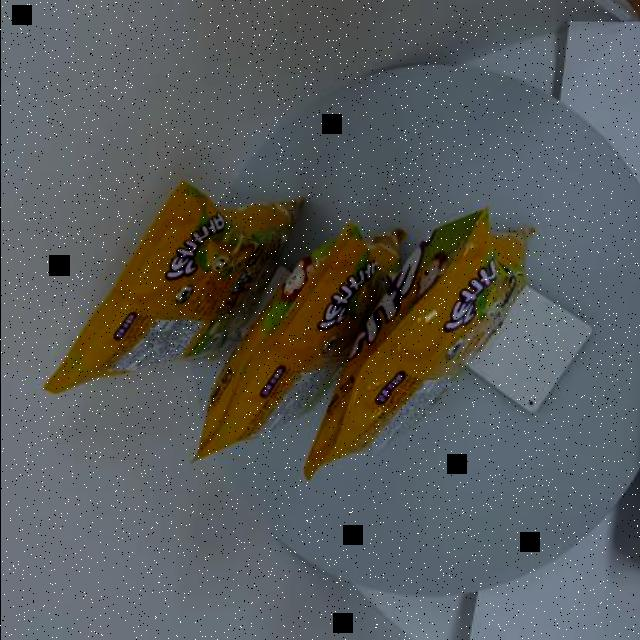snack_bag: (38, 173, 546, 485)
